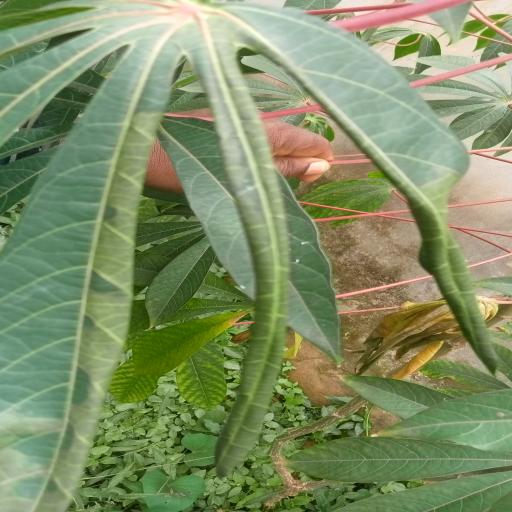Cassava_Root_Rot: (10, 5, 509, 496)
